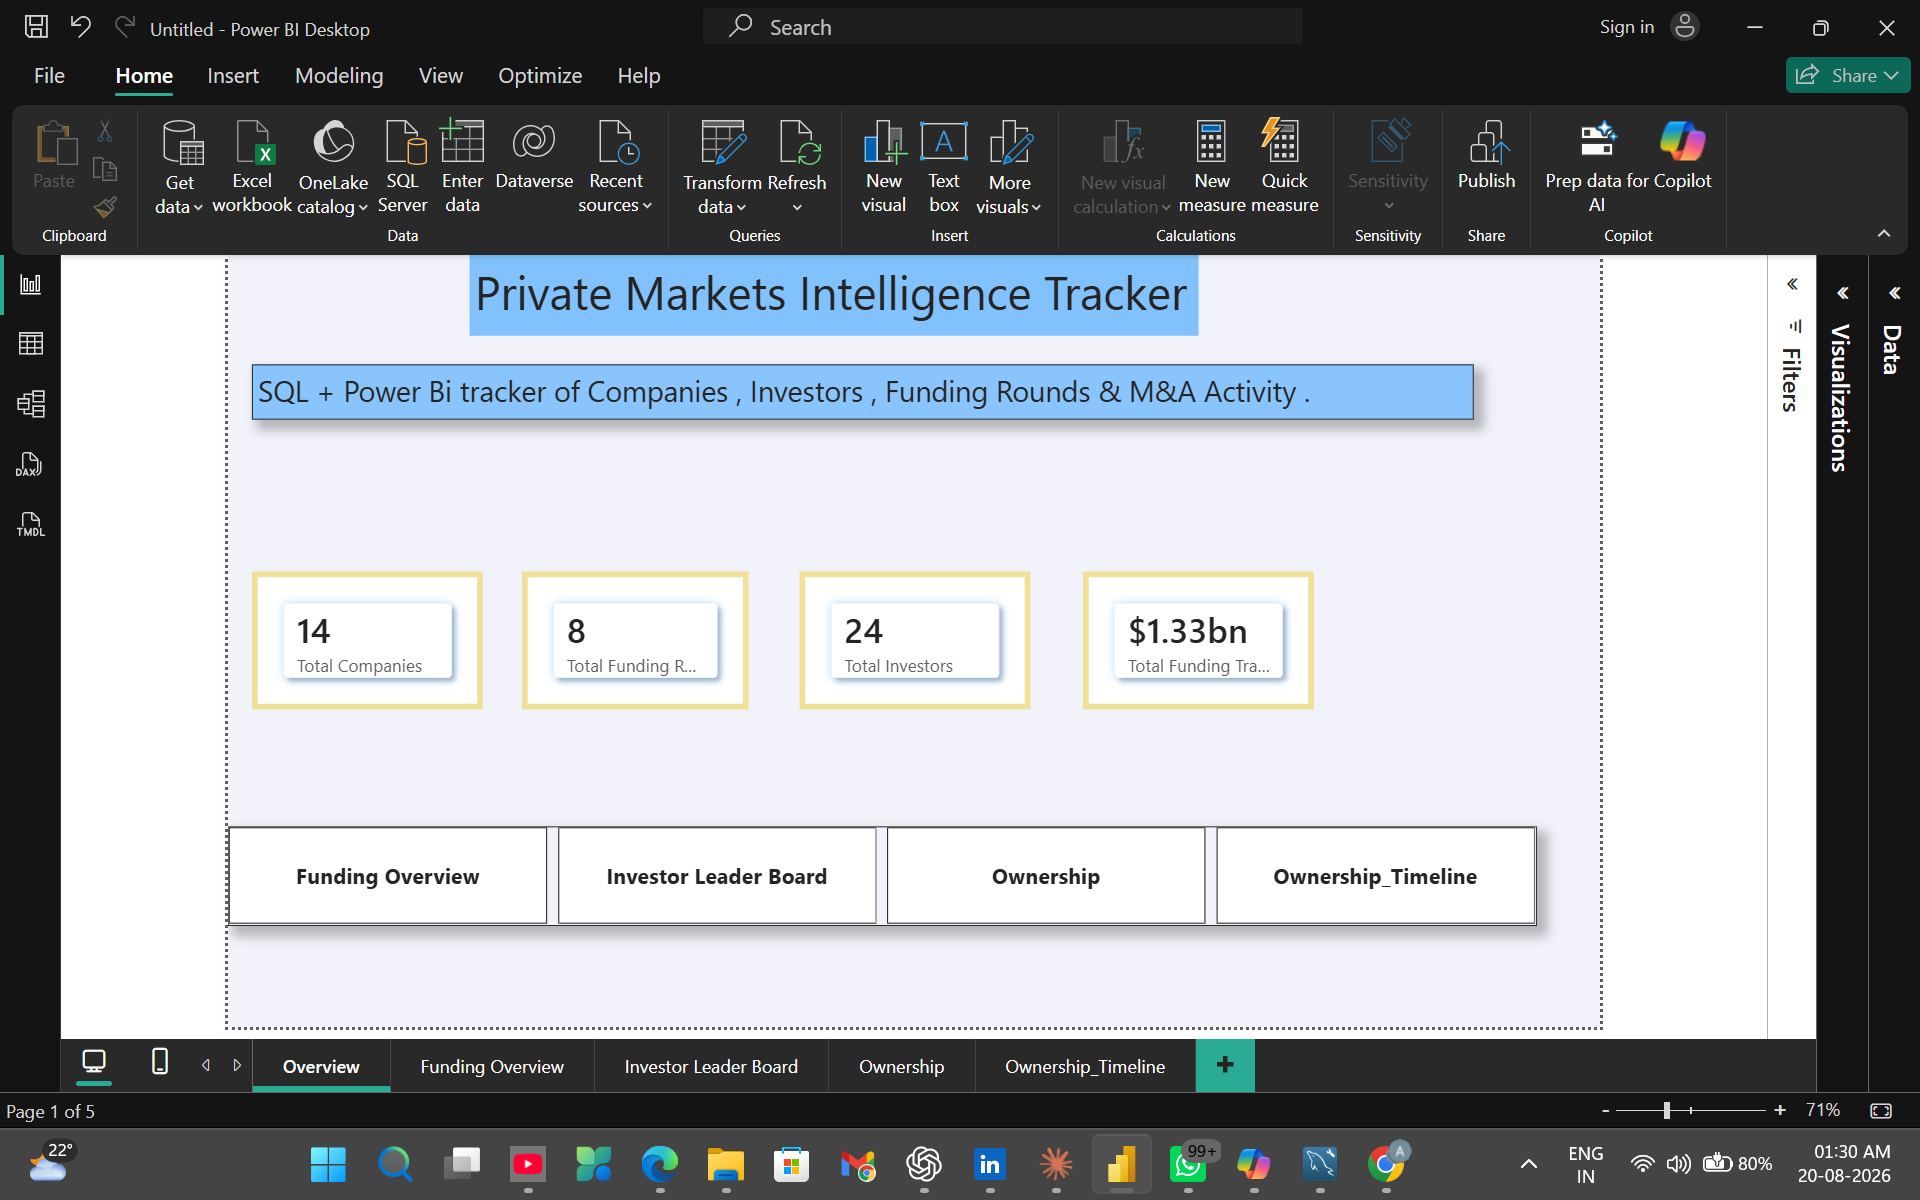

This screenshot's page, from the dashboard's own definition file:
{"tool":"powerbi","page":{"name":"Overview","canvas":[1280,720],"ordinal":0},"visuals":[{"type":"textbox","box":[224.9,0,680.3,75.6],"z":0},{"type":"textbox","box":[22.7,102,1139.5,51],"z":1},{"type":"cardVisual","fields":{"Data":["Count(private_markets_intel companies.company_id)"]},"box":[22.7,294.8,215.4,128.5],"z":2},{"type":"cardVisual","fields":{"Data":["CountNonNull(private_markets_intel funding_rounds.round_id)"]},"box":[274,294.8,211.7,128.5],"z":3},{"type":"cardVisual","fields":{"Data":["Count(private_markets_intel investors.investor_id)"]},"box":[532.9,294.8,215.4,128.5],"z":4},{"type":"cardVisual","fields":{"Data":["Sum(private_markets_intel funding_rounds.amount_usd)"]},"box":[797.5,294.8,215.4,128.5],"z":5},{"type":"pageNavigator","box":[0,532.9,1220.8,92.6],"z":6}]}

Visuals, with their boxes on the page's 1280x720 design canvas (x1, y1, x2, y2). These are canvas units, not pixel positions in the 1920x1200 screenshot, which may show the page scaled, cropped or inside an application window:
textbox: l=225, t=0, r=905, b=76
textbox: l=23, t=102, r=1162, b=153
cardVisual - Count(private_markets_intel companies.company_id): l=23, t=295, r=238, b=423
cardVisual - CountNonNull(private_markets_intel funding_rounds.round_id): l=274, t=295, r=486, b=423
cardVisual - Count(private_markets_intel investors.investor_id): l=533, t=295, r=748, b=423
cardVisual - Sum(private_markets_intel funding_rounds.amount_usd): l=798, t=295, r=1013, b=423
pageNavigator: l=0, t=533, r=1221, b=626
